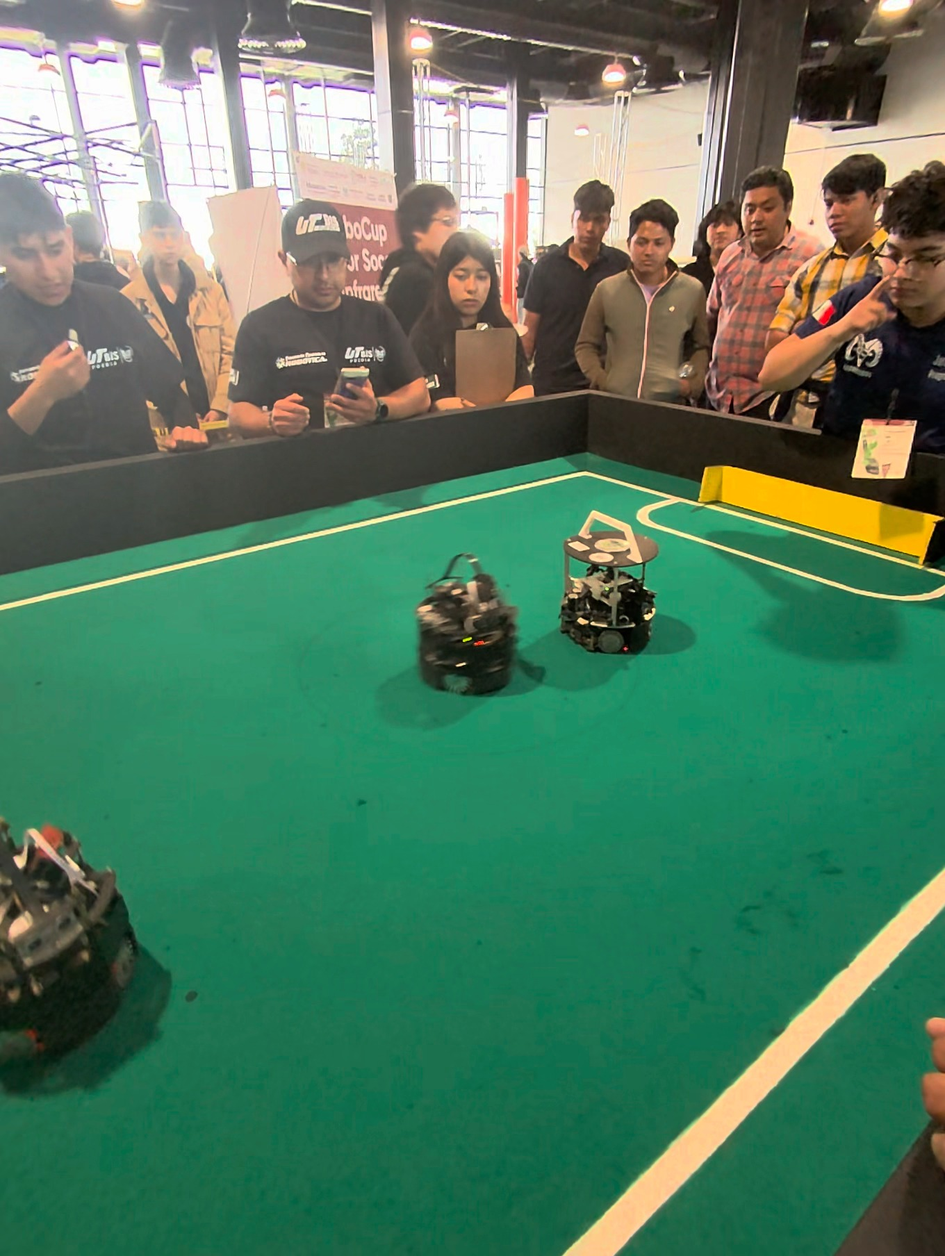Robot: (0, 795, 153, 1104), (558, 505, 666, 662), (410, 550, 520, 702)
